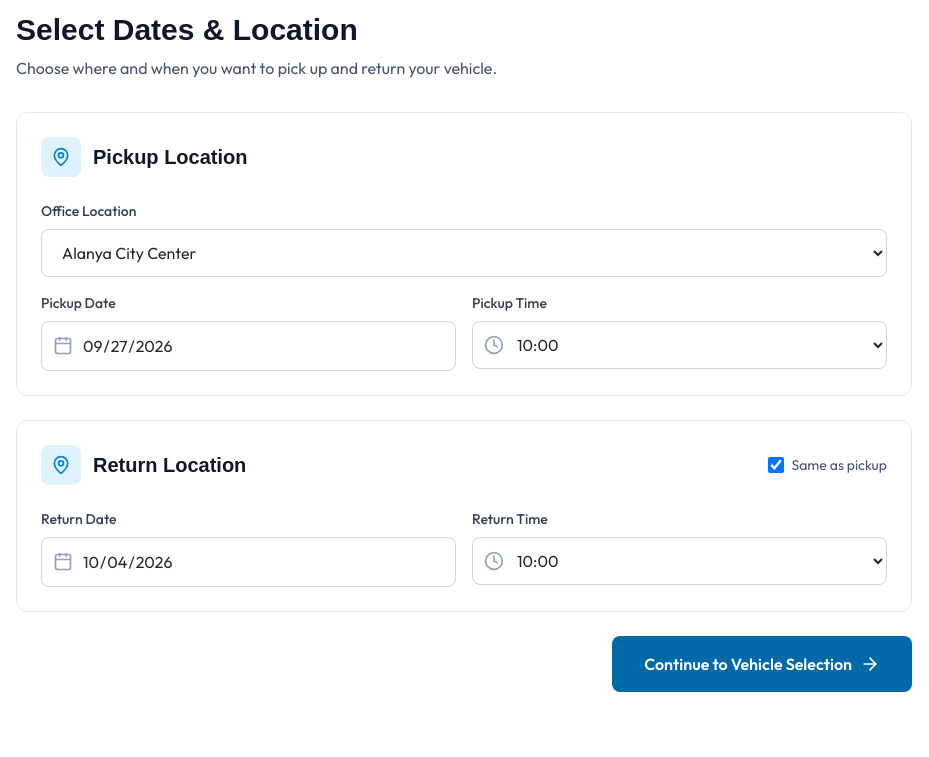
BookingStep1Page › validates required date fields before navigation
Clear the date field labelled "Pickup Date" at [248, 346], box [41,321,456,371]
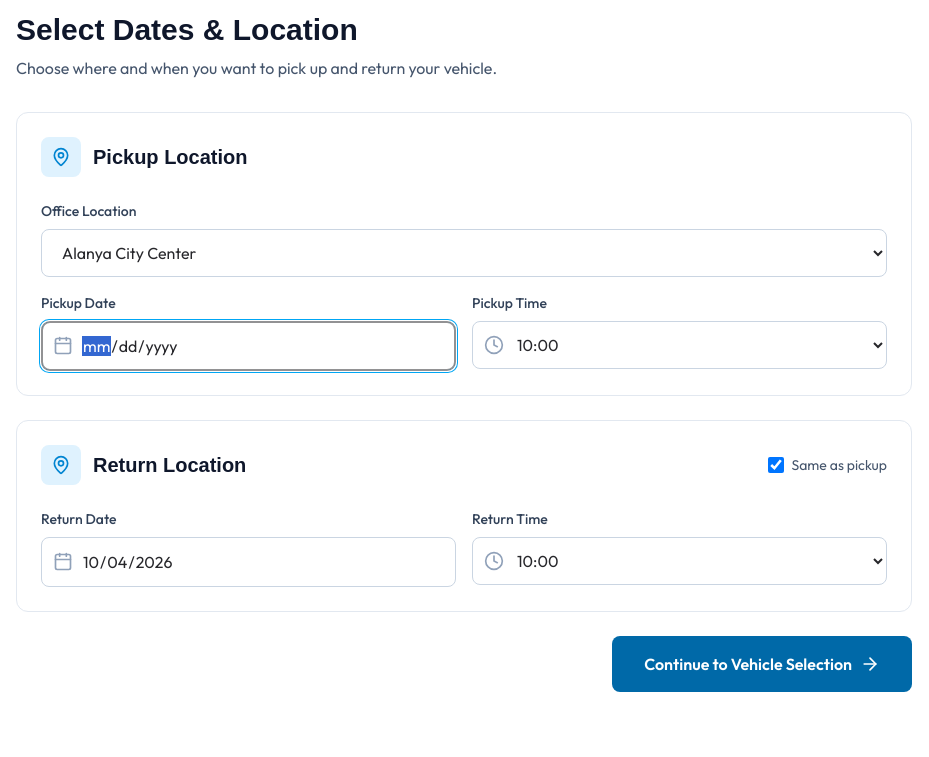
Clear the date field labelled "Return Date" at [248, 562], box [41,537,456,587]
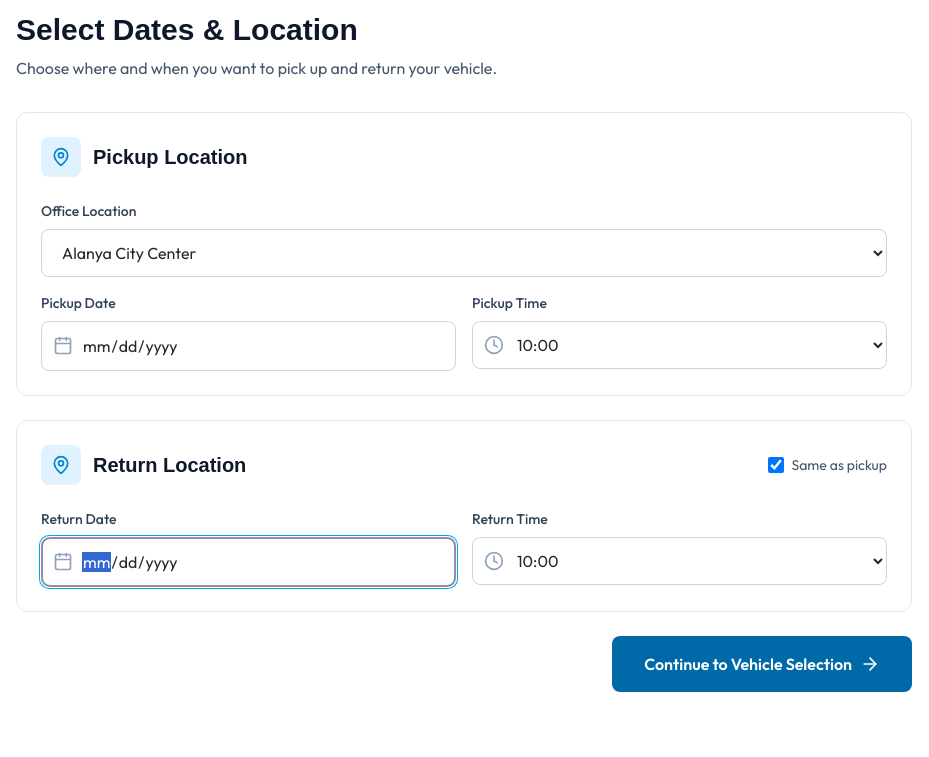
Click the button "Continue to Vehicle Selection" at [762, 664], box [612,636,912,692]
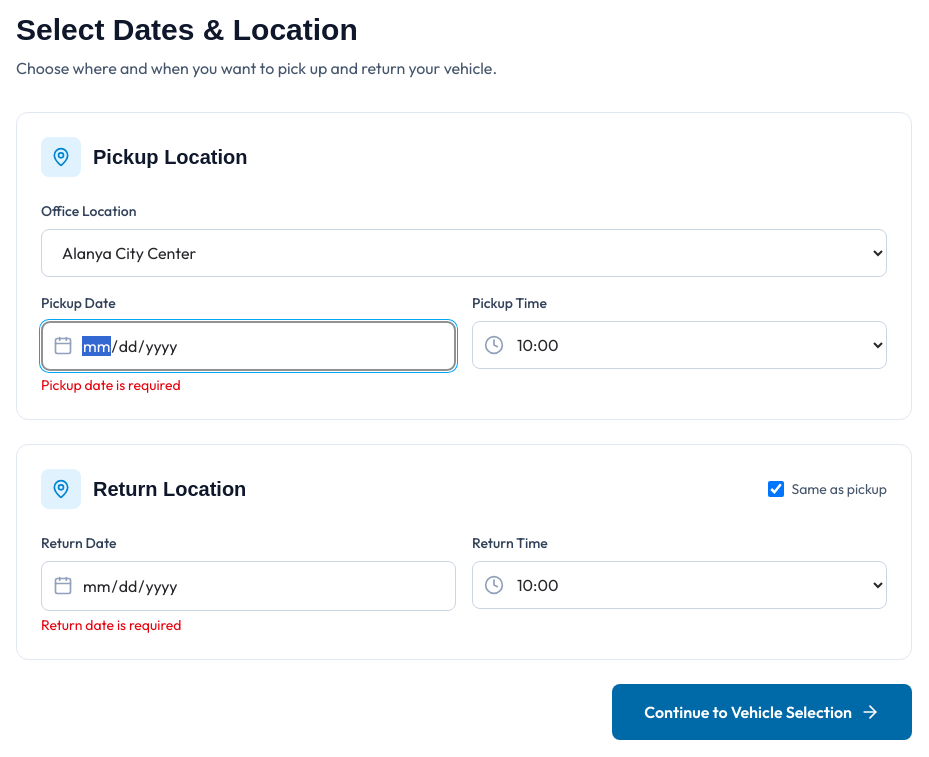
Now the text "Pickup date is required" is shown, box [41,376,181,394]
Now the text "Return date is required" is shown, box [41,616,182,634]
